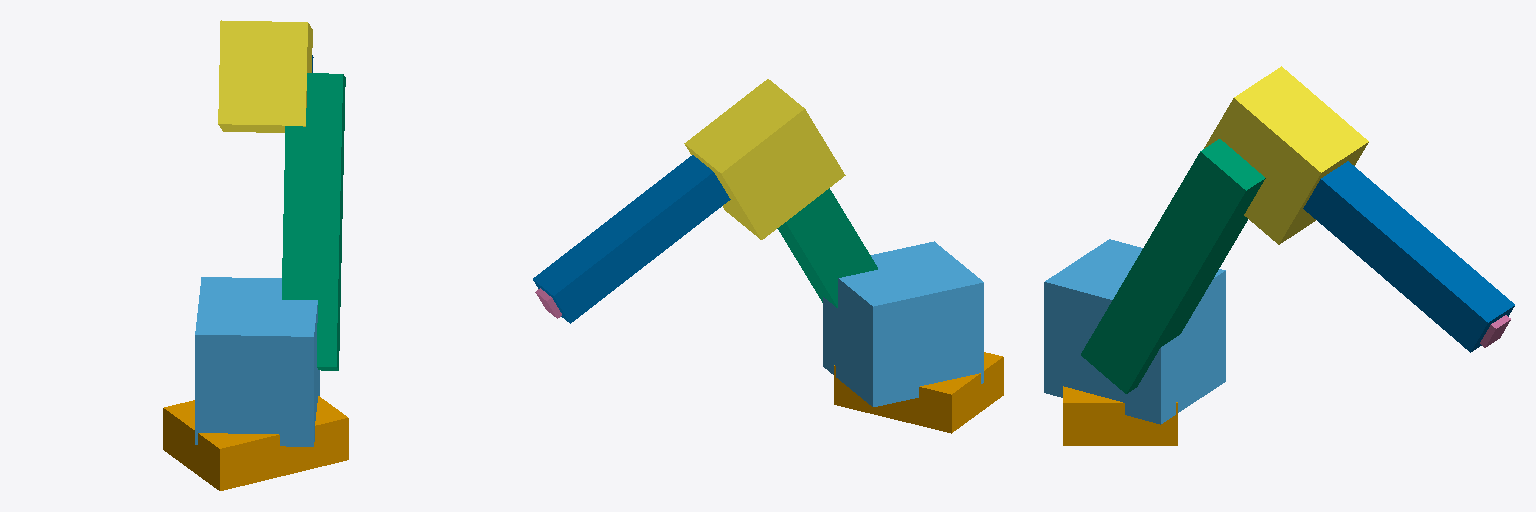
robot.urdf — [local-path]/Documents/Irb4600-40.urdf:
<?xml version="1.0"?>
<robot name="[local-path]/Documents/Irb4600-40.urdf" xmlns:xacro="http://ros.org/wiki/xacro">
  <link name="base_link">
    <visual>
      <origin xyz="-0.063119 0 0.106497" rpy="0 0 0"/>
      <geometry>
        <box size="0.676133 0.514411 0.213001"/>
      </geometry>
    </visual>
    <collision>
      <origin xyz="-0.063119 0 0.106497" rpy="0 0 0"/>
      <geometry>
        <box size="0.676133 0.514411 0.213001"/>
      </geometry>
    </collision>
  </link>
  <joint name="A motor" type="revolute">
    <parent link="base_link"/>
    <child link="solid"/>
    <axis xyz="0 0 1"/>
    <limit effort="10000" lower="-3.1415" upper="3.1415" velocity="10"/>
    <origin xyz="0 0 0.159498" rpy="0 0 1"/>
  </joint>
  <link name="solid">
    <visual>
      <origin xyz="0.046699 0.049037 0.270246" rpy="0 0 0"/>
      <geometry>
        <box size="0.621392 0.540918 0.552493"/>
      </geometry>
    </visual>
    <collision>
      <origin xyz="0.046699 0.049037 0.270246" rpy="0 0 0"/>
      <geometry>
        <box size="0.621392 0.540918 0.552493"/>
      </geometry>
    </collision>
  </link>
  <joint name="B motor" type="revolute">
    <parent link="solid"/>
    <child link="solid_0"/>
    <axis xyz="0 1 0"/>
    <limit effort="10000" lower="-1.5708" upper="2.61799" velocity="10"/>
    <origin xyz="0.178445 -0.122498 0.334888" rpy="0 0.500571 0"/>
  </joint>
  <link name="solid_0">
    <visual>
      <origin xyz="-0.003447 -0.061473 0.529095" rpy="0 0 0"/>
      <geometry>
        <box size="0.279997 0.256948 1.33599"/>
      </geometry>
    </visual>
    <collision>
      <origin xyz="-0.003447 -0.061473 0.529095" rpy="0 0 0"/>
      <geometry>
        <box size="0.279997 0.256948 1.33599"/>
      </geometry>
    </collision>
  </link>
  <joint name="C motor" type="revolute">
    <parent link="solid_0"/>
    <child link="solid_1"/>
    <axis xyz="0 1 0"/>
    <limit effort="10000" lower="-3.1415" upper="1.309" velocity="10"/>
    <origin xyz="-0.003447 -0.0267 1.095594" rpy="0 0.000171 0"/>
  </joint>
  <link name="solid_1">
    <visual>
      <origin xyz="0.085806 0.199325 0.094072" rpy="0 0 0"/>
      <geometry>
        <box size="0.533578 0.398651 0.472912"/>
      </geometry>
    </visual>
    <collision>
      <origin xyz="0.085806 0.199325 0.094072" rpy="0 0 0"/>
      <geometry>
        <box size="0.533578 0.398651 0.472912"/>
      </geometry>
    </collision>
  </link>
  <joint name="D motor" type="revolute">
    <parent link="solid_1"/>
    <child link="solid_2"/>
    <axis xyz="1 0 0"/>
    <limit effort="10000" lower="-6.98132" upper="6.98132" velocity="10"/>
    <origin xyz="0.340095 0.149198 0.174998" rpy="-0.000055 0 0"/>
  </joint>
  <link name="solid_2">
    <visual>
      <origin xyz="0.511874 0.003021 0" rpy="0 0 0"/>
      <geometry>
        <box size="1.04097 0.228038 0.195956"/>
      </geometry>
    </visual>
    <collision>
      <origin xyz="0.511874 0.003021 0" rpy="0 0 0"/>
      <geometry>
        <box size="1.04097 0.228038 0.195956"/>
      </geometry>
    </collision>
  </link>
  <joint name="E motor" type="revolute">
    <parent link="solid_2"/>
    <child link="solid_3"/>
    <axis xyz="0 1 0"/>
    <limit effort="10000" lower="-2.18166" upper="2.0944" velocity="10"/>
    <origin xyz="0.929888 0 0" rpy="0 0 0"/>
  </joint>
  <link name="solid_3">
    <visual>
      <origin xyz="0 -0.0015 0" rpy="0 0 0"/>
      <geometry>
        <box size="0.159731 0.130998 0.160194"/>
      </geometry>
    </visual>
    <collision>
      <origin xyz="0 -0.0015 0" rpy="0 0 0"/>
      <geometry>
        <box size="0.159731 0.130998 0.160194"/>
      </geometry>
    </collision>
  </link>
  <joint name="F motor" type="revolute">
    <parent link="solid_3"/>
    <child link="solid_4"/>
    <axis xyz="1 0 0"/>
    <limit effort="10000" lower="-6.98132" upper="6.98132" velocity="10"/>
    <origin xyz="0.125 0 0" rpy="0 0 0"/>
  </joint>
  <link name="solid_4">
    <visual>
      <origin xyz="-0.025004 0.002215 -0.000958" rpy="0 0 0"/>
      <geometry>
        <box size="0.069993 0.125817 0.125113"/>
      </geometry>
    </visual>
    <collision>
      <origin xyz="-0.025004 0.002215 -0.000958" rpy="0 0 0"/>
      <geometry>
        <box size="0.069993 0.125817 0.125113"/>
      </geometry>
    </collision>
  </link>
  <link name="pen">
  </link>
  <joint name="solid_4_pen_joint" type="fixed">
    <parent link="solid_4"/>
    <child link="pen"/>
    <origin xyz="0.08 0 0" rpy="1.570794 0.000003 -1.570796"/>
  </joint>
</robot>

--- Render facts (derived) ---
3 views of the same robot in one strip: view 1: azimuth 30°, elevation 25°; view 2: azimuth 150°, elevation 25°; view 3: azimuth 270°, elevation 25° (orthographic).
Model [local-path]/Documents/Irb4600-40.urdf with 8 links and 7 joints (6 revolute, 1 fixed), rooted at base_link, posed every joint at zero.
Links seen in each view (by area): view 1: solid, solid_0, solid_1, base_link; view 2: solid, solid_1, solid_2, solid_0, base_link; view 3: solid_0, solid, solid_2, solid_1, base_link.
Boxes of the visible links, box(x1,y1,x2,y2) form: solid: box(195, 277, 319, 446); solid_0: box(282, 73, 345, 370); solid_1: box(218, 20, 312, 132); base_link: box(163, 396, 348, 490); solid: box(823, 241, 983, 406); solid_1: box(684, 79, 845, 239); solid_2: box(533, 155, 730, 323); solid_0: box(777, 188, 877, 307); base_link: box(834, 352, 1003, 433); solid_0: box(1081, 139, 1265, 393); solid: box(1044, 239, 1225, 424); solid_2: box(1303, 161, 1514, 352); solid_1: box(1204, 66, 1368, 244); base_link: box(1063, 386, 1177, 445).
Bounding box of the posed robot: 1.61 × 2.12 × 1.83 m (x, y, z).
Geometry: primitives only (box / cylinder / sphere), no mesh files.
